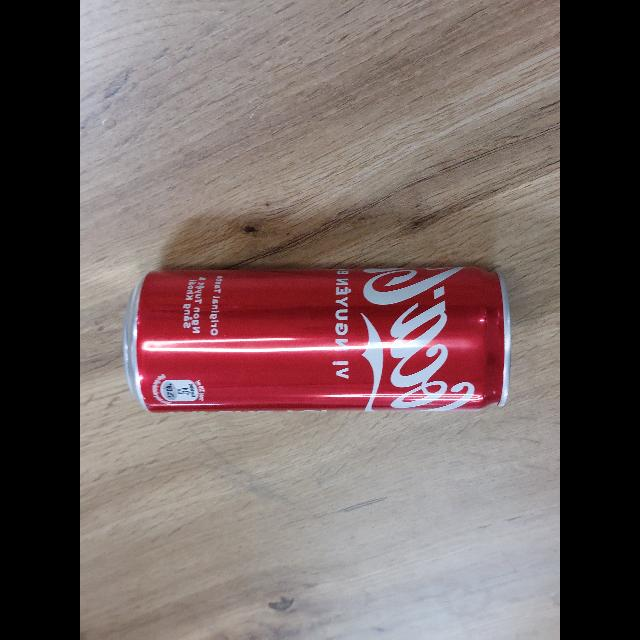coca_cola: (122, 262, 513, 412)
